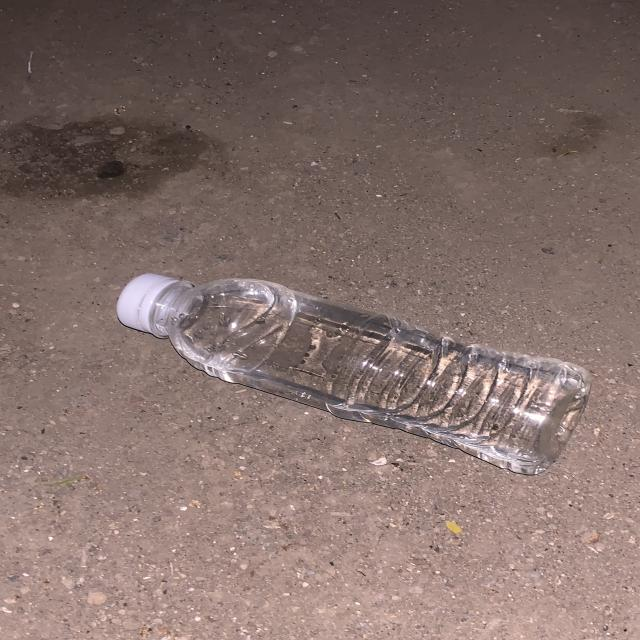Bottle: (117, 274, 590, 475)
